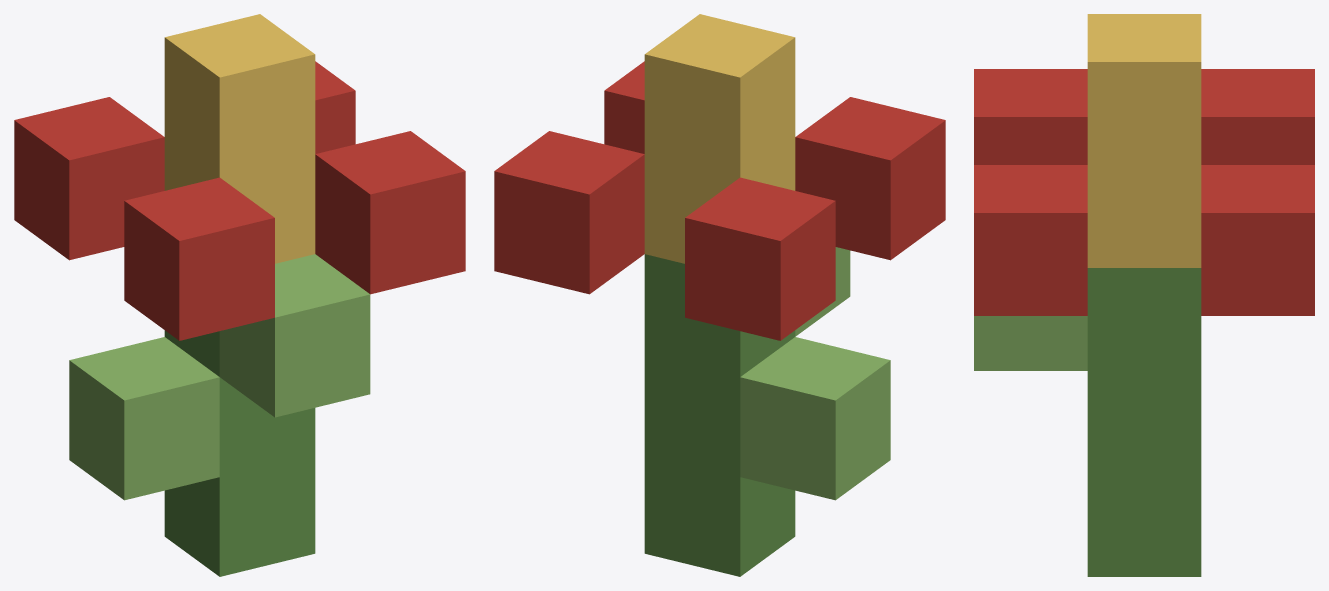
Rendered from hearthvale_prop_flower.obj.
The picture shows the model from 3 angles, left to right: view 1: azimuth 30°, elevation 25°; view 2: azimuth 150°, elevation 25°; view 3: azimuth 270°, elevation 25°; orthographic projection. The views are drawn at different scales.
Visible parts, largest first — view 1: palette_18, palette_12, palette_13, palette_11; view 2: palette_18, palette_11, palette_13, palette_12; view 3: palette_18, palette_11, palette_13, palette_12.
Part boxes in pixels (bbox=[...]): palette_18: bbox=[14, 61, 465, 340]; palette_12: bbox=[69, 254, 370, 500]; palette_13: bbox=[164, 14, 315, 263]; palette_11: bbox=[164, 330, 315, 576]; palette_18: bbox=[494, 61, 945, 340]; palette_11: bbox=[644, 254, 795, 576]; palette_13: bbox=[644, 14, 795, 263]; palette_12: bbox=[740, 247, 890, 500]; palette_18: bbox=[974, 69, 1314, 315]; palette_11: bbox=[1087, 268, 1201, 576]; palette_13: bbox=[1087, 14, 1201, 267]; palette_12: bbox=[974, 316, 1087, 370].
Bounding box in the file's own units: 0.1875 × 0.3125 × 0.1875.
